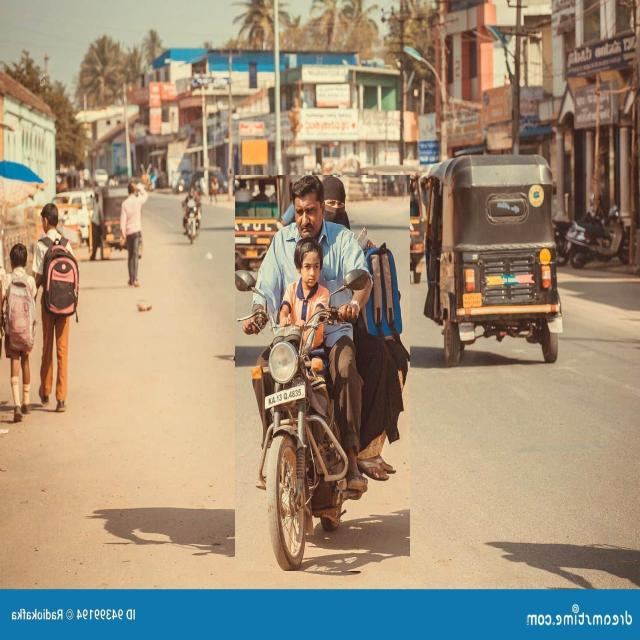autorickshaw: (425, 155, 562, 365), (354, 166, 425, 282)
motorcycle: (235, 175, 410, 571)
